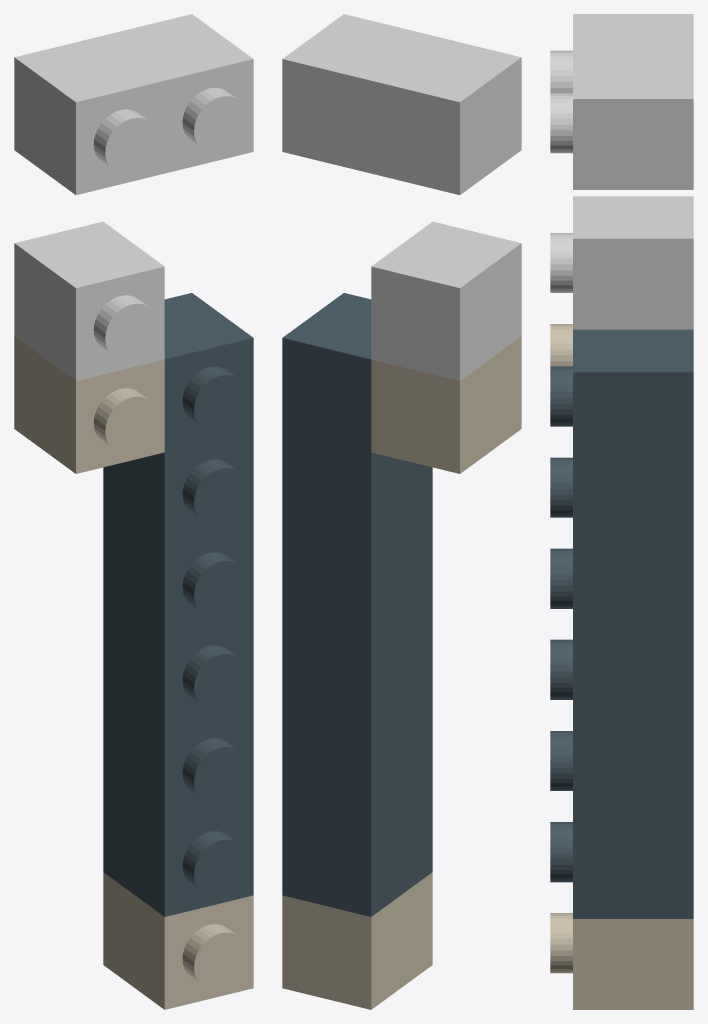
File: current.glb
The picture shows the model from 3 angles, left to right: view 1: azimuth 30°, elevation 25°; view 2: azimuth 150°, elevation 25°; view 3: azimuth 270°, elevation 25°; orthographic projection. The views are drawn at different scales.
Parts seen in each view (by area): view 1: world; view 2: world; view 3: world.
Part boxes in pixels (bbox=[...]): world: bbox=[14, 14, 253, 1009]; world: bbox=[282, 14, 521, 1009]; world: bbox=[550, 14, 693, 1009].
Bounding box in the file's own units: 16 × 80 × 11.4.
